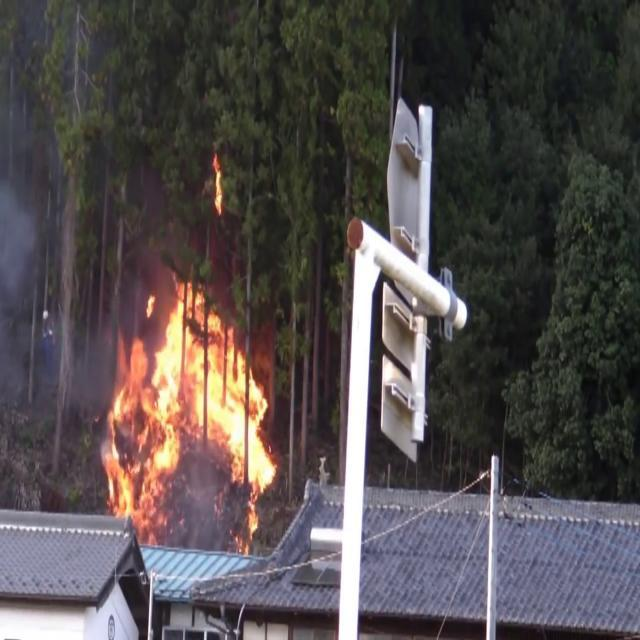Fire: (152, 273, 268, 435), (212, 324, 278, 556), (101, 329, 181, 519), (130, 516, 174, 546), (211, 152, 223, 216), (146, 294, 156, 318)
Smoke: (0, 186, 40, 298), (182, 440, 215, 551)
